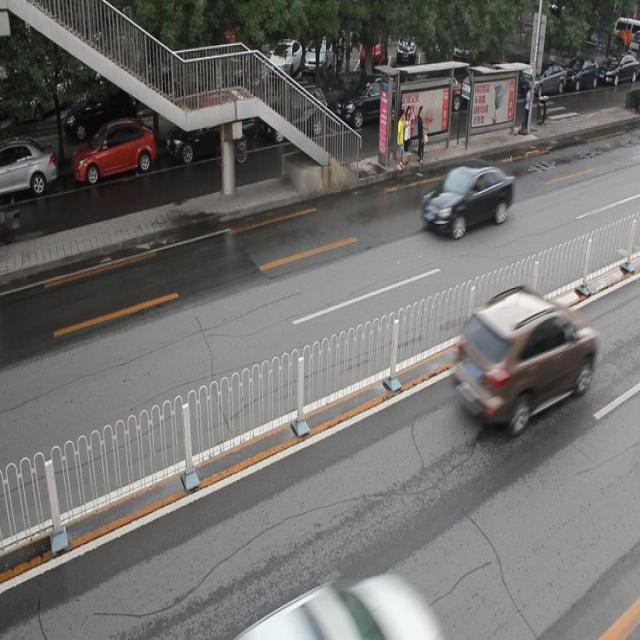car: (453, 287, 597, 434), (420, 164, 514, 237), (70, 120, 157, 181), (163, 103, 254, 160), (334, 75, 404, 132), (262, 87, 327, 145), (1, 137, 58, 198)
